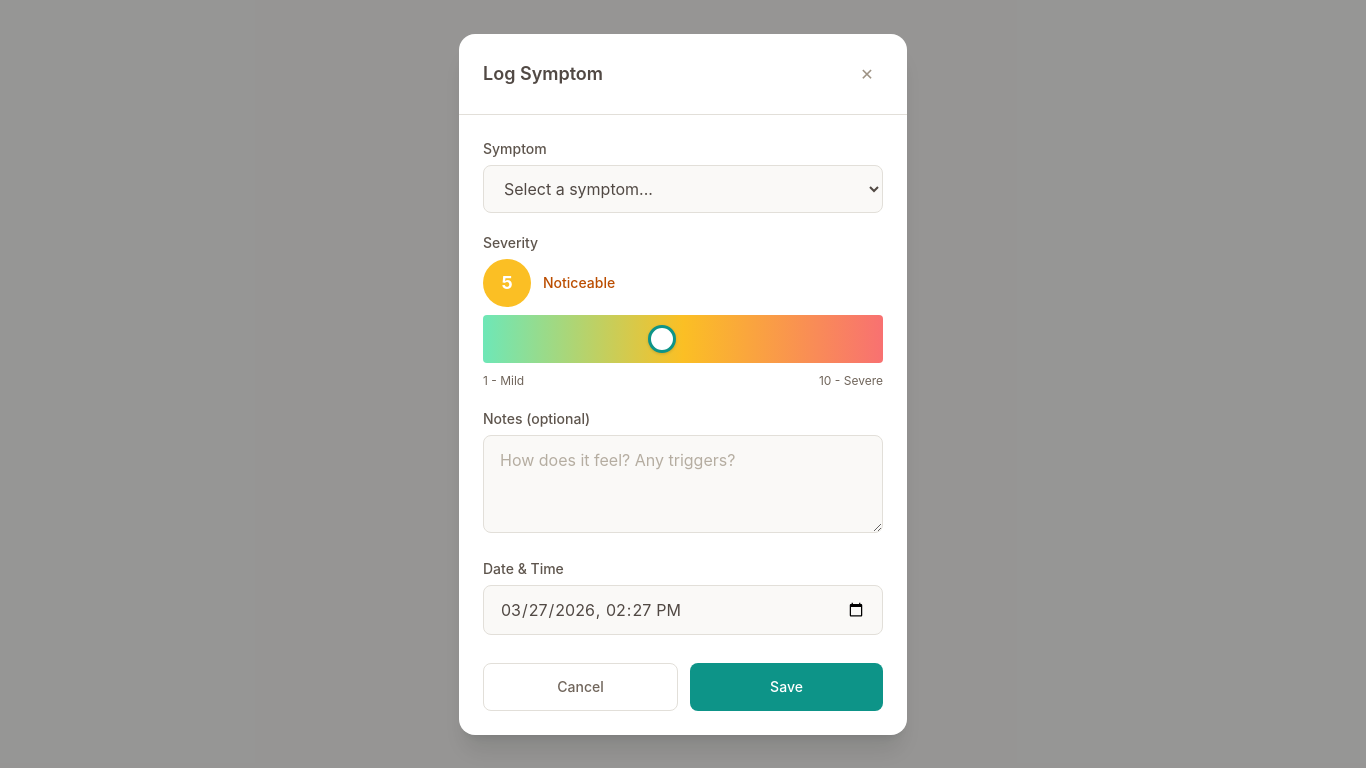
Test: SymptomLogModal › shows validation error when no symptom is selected
Click the button "Save": {"x": 786, "y": 686} [690,662,883,710]
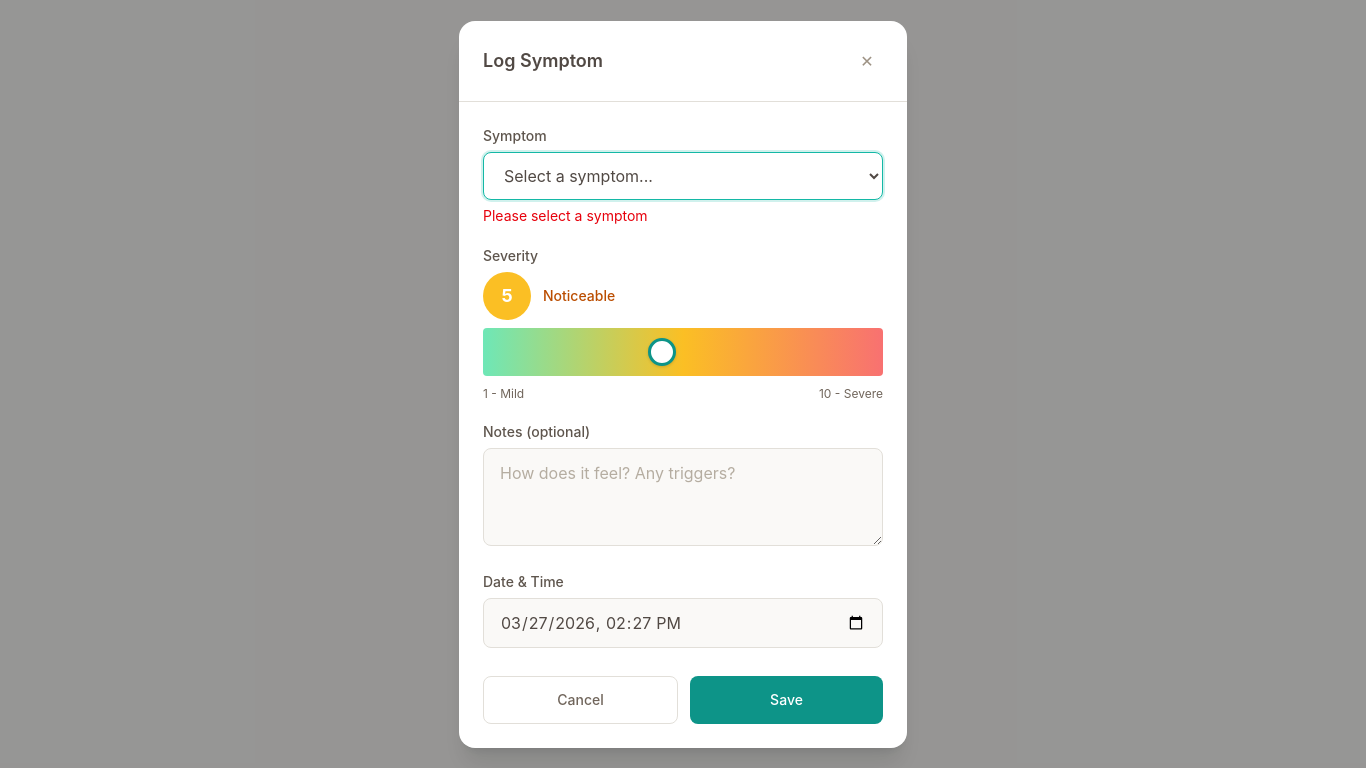
Result: the text "Please select a symptom" is shown at [483,206,648,224]
